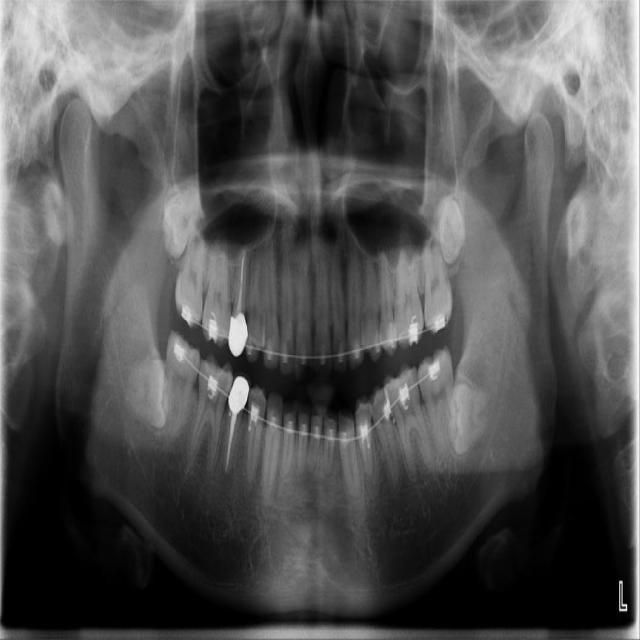3M ESPE Implant: (144, 177, 214, 262)
52: (225, 310, 251, 358), (224, 374, 252, 416)
73: (213, 400, 246, 475), (231, 247, 251, 319), (598, 582, 603, 598)
BioHorizons Implant: (423, 226, 453, 335)
BioLife Implant: (434, 197, 469, 266)
Biomet 3i Implant: (442, 381, 491, 457)
Blue Sky Bio Implant: (415, 344, 459, 454)
Caries: (173, 213, 205, 329)
Implant: (157, 329, 204, 437)
Keystone Dental Implant: (122, 357, 169, 428)
